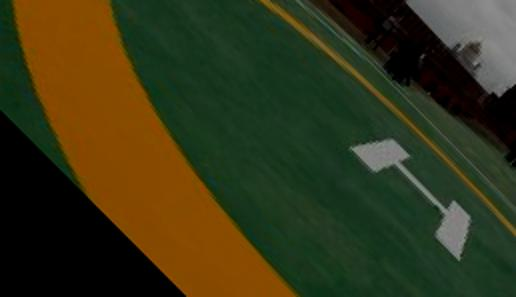Apron: (1, 2, 516, 297)
